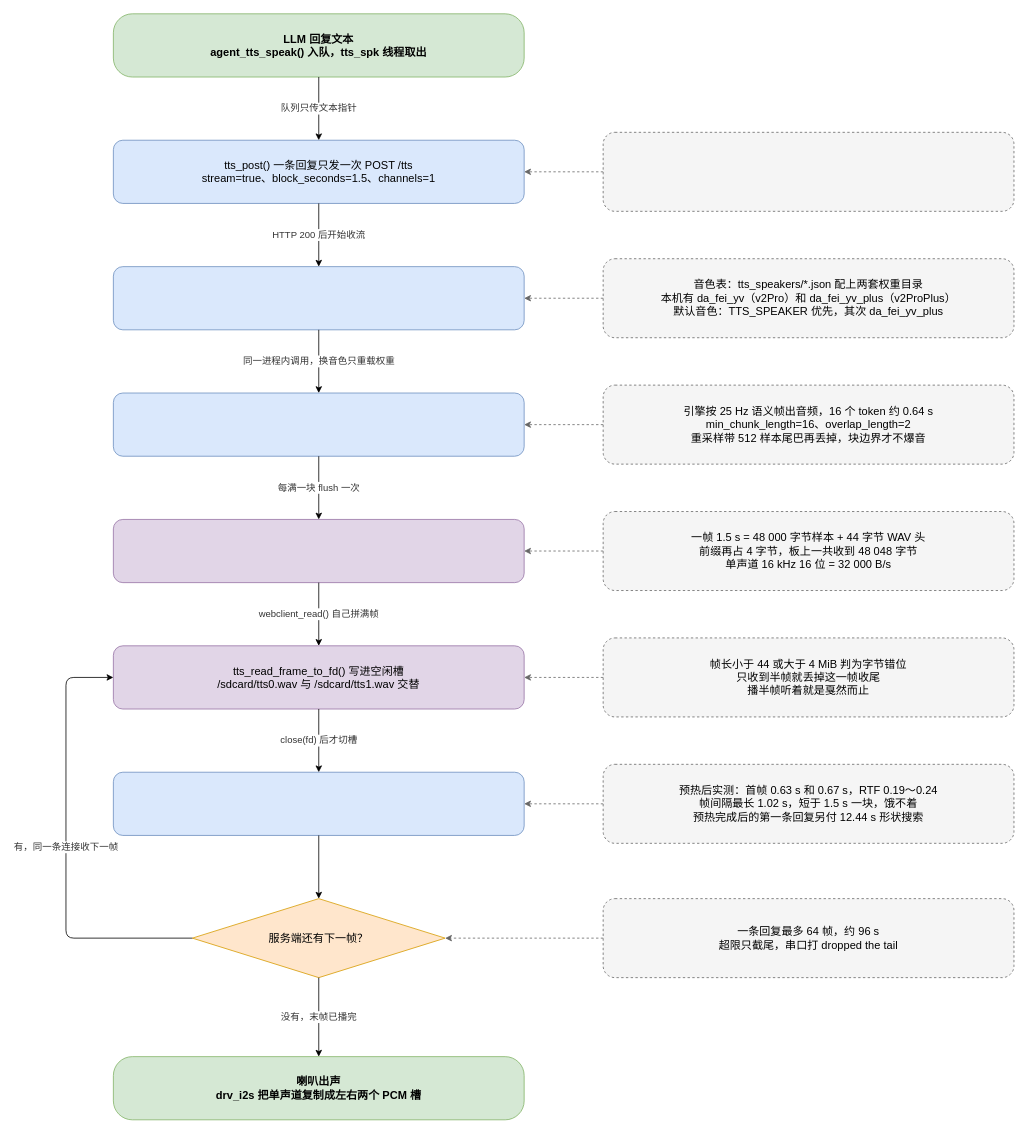
Image size: 1028x1134. Some labels were removed from this diagram. Each missing label, with the centre of its shape:
_tts_stream_frames() 用 streaming_mode 合成 _TtsBlocker 攒够 1.5 s 音频封一帧: the point at 318,424
main.py 选音色，取常驻管线 speaker 缺省时取 TTS_SPEAKER，否则取 da_fei_yv_plus: the point at 318,298
另一条入口：msh_agent_tts stream=false，服务端一次返回整条 WAV 长句要等全部合成完才起播: the point at 808,171
响应帧序列 [4 字节小端长度][自带 WAV 头的可播音频]: the point at 318,551
等上一帧播完，agent_driver_audio_play() 播这一帧 槽位取反后接着收: the point at 318,803
